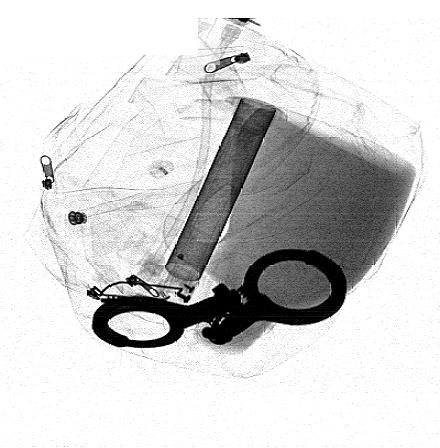HandCuffs: (92, 248, 347, 348)
